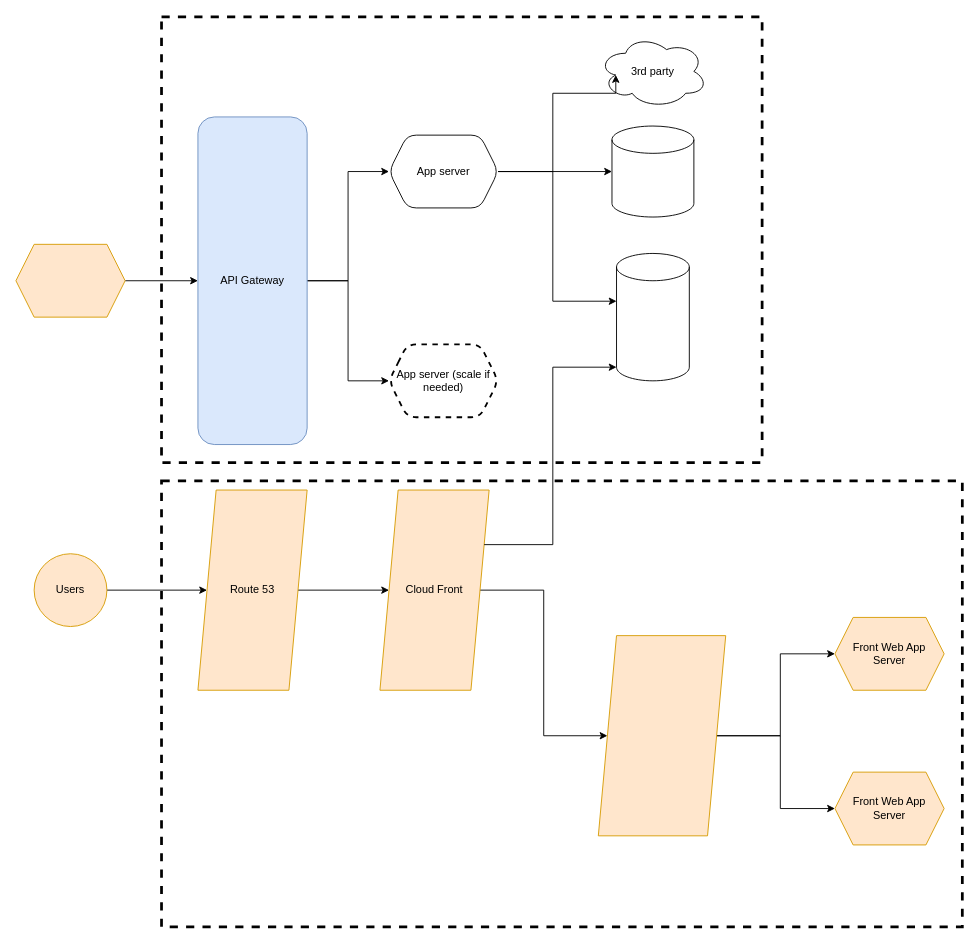
The diagram is 979 pixels wide and 944 high, and some of its shapes have lost their labels. The shapes that lost their labels are listed below. From the top down, each one's centre as x and y in pixels, then its label:
At [652,171]: "db instance".
At [70,280]: "Web Application".
At [652,317]: "Object Storage S3".
At [661,735]: "Load Balancer (LB)".
